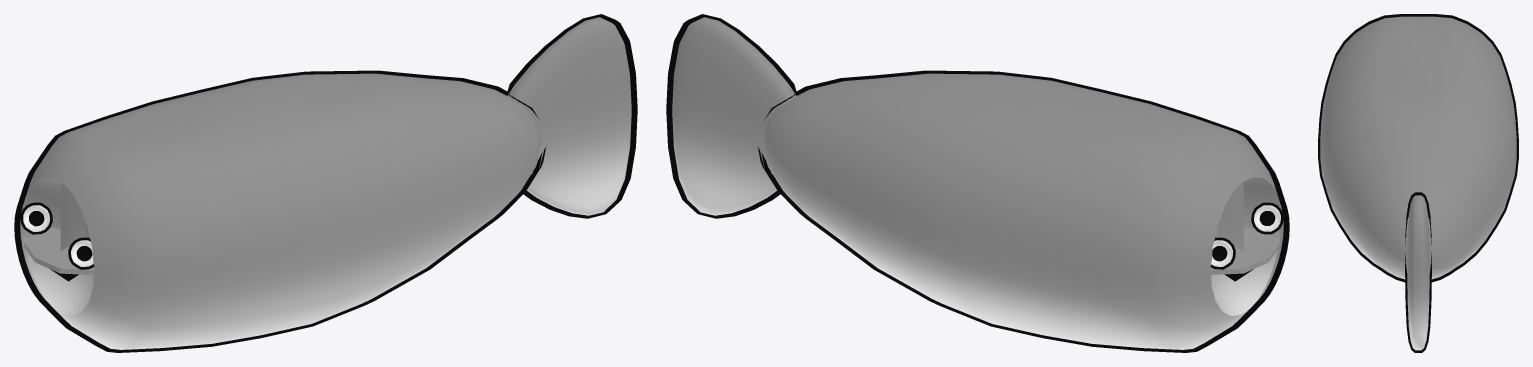
The model's file is funny_fish.glb.
The picture shows the model from 3 angles, left to right: view 1: azimuth 30°, elevation 25°; view 2: azimuth 150°, elevation 25°; view 3: azimuth 270°, elevation 25°; orthographic projection. The views are drawn at different scales.
Parts seen in each view (by area): view 1: Object002_Material #25_0; view 2: Object002_Material #25_0; view 3: Object002_Material #25_0.
Boxes of the visible parts, <box> form: Object002_Material #25_0: <box>14,14,637,352</box>; Object002_Material #25_0: <box>666,14,1289,352</box>; Object002_Material #25_0: <box>1318,14,1518,352</box>.
Size of the model in its own units: 7.76 by 2.82 by 2.89.
Materials: 1 (1 with a texture image).
